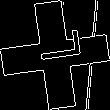L_W: (28, 36, 82, 74)
